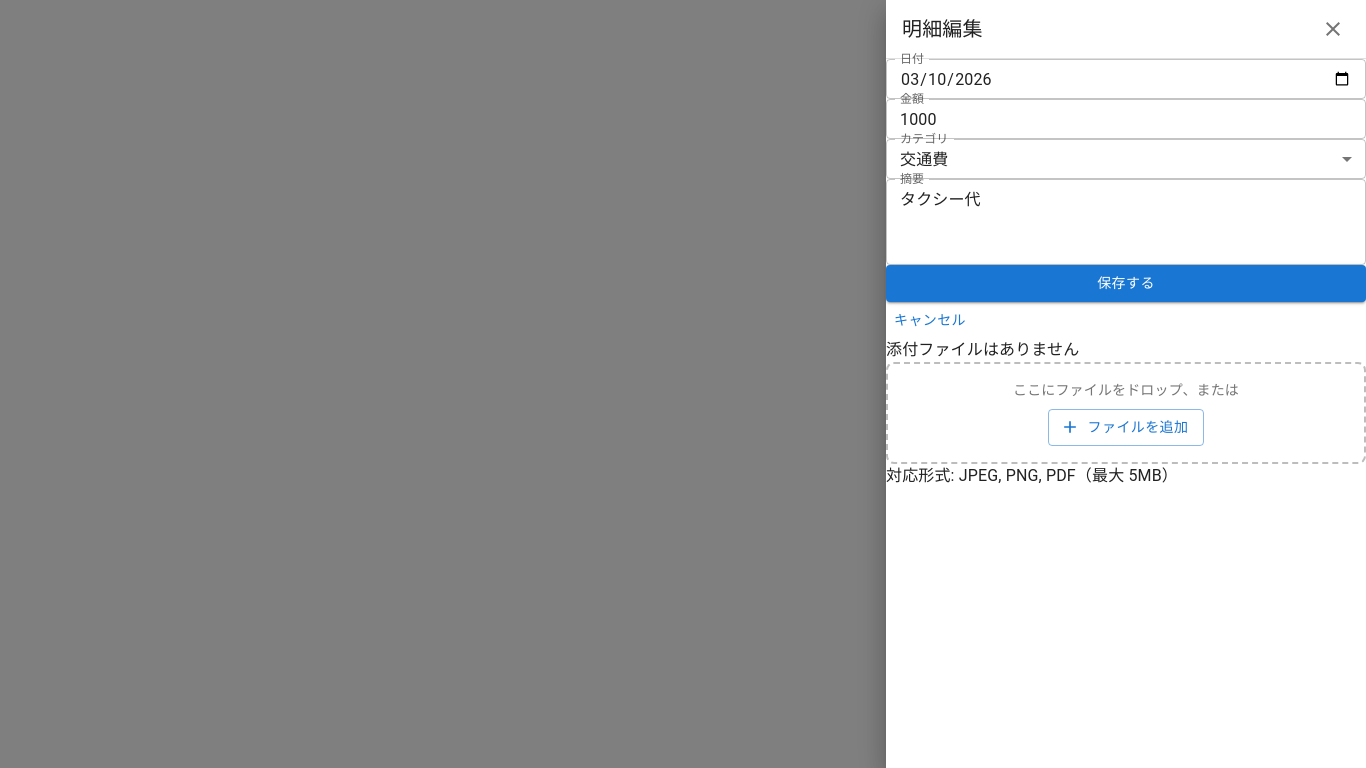
Test: ItemSlidePanel 破棄確認ダイアログ（ATT-FE-064〜071, issue #108） › ATT-FE-069: keeps_panel_open_on_dialog_cancel_button
The width and height of the screenshot is (1366, 768).
金額を変更して dirty にする。
Replace the text in the number field labelled "金額" with "7777" at (1126, 119), box [886,99,1365,139]
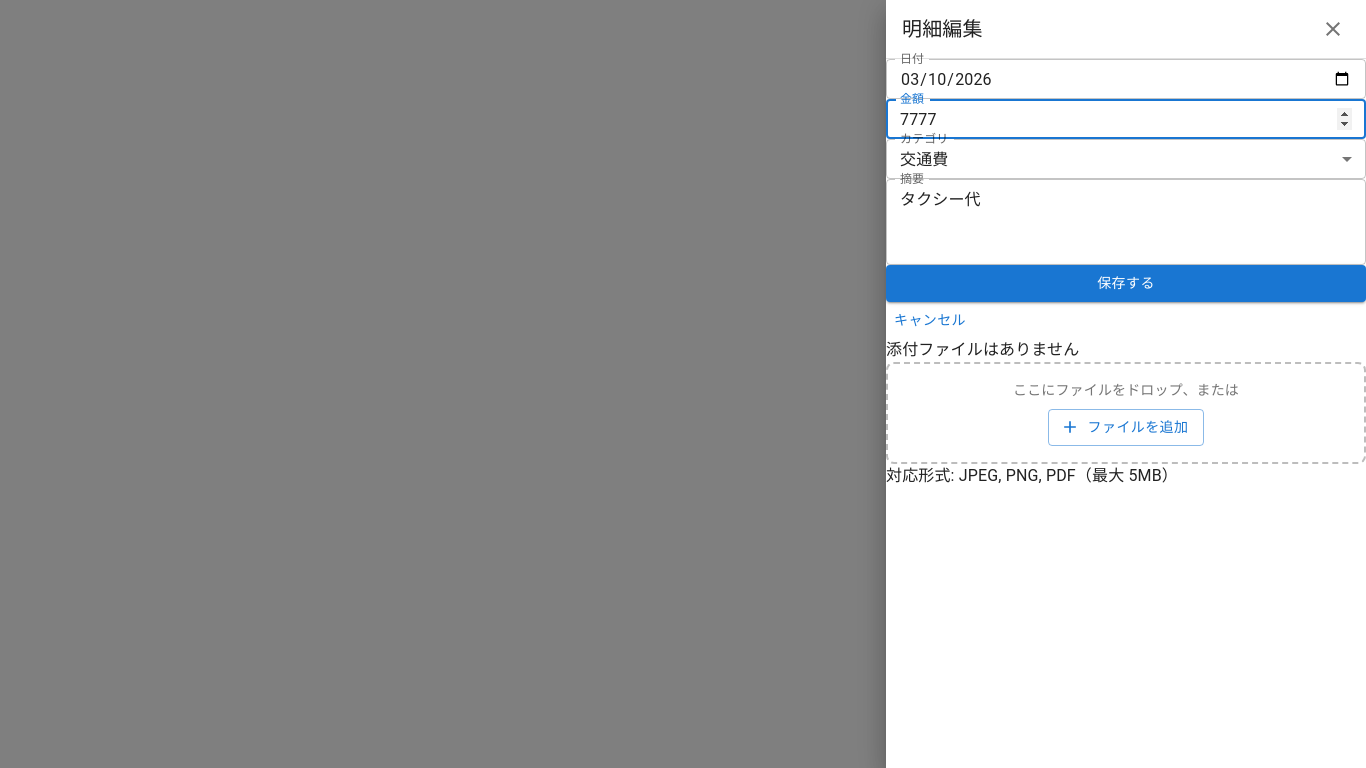
× ボタンで Dialog を表示する。
Click the button named "閉じる" at (1333, 29), box [1316,12,1350,46]
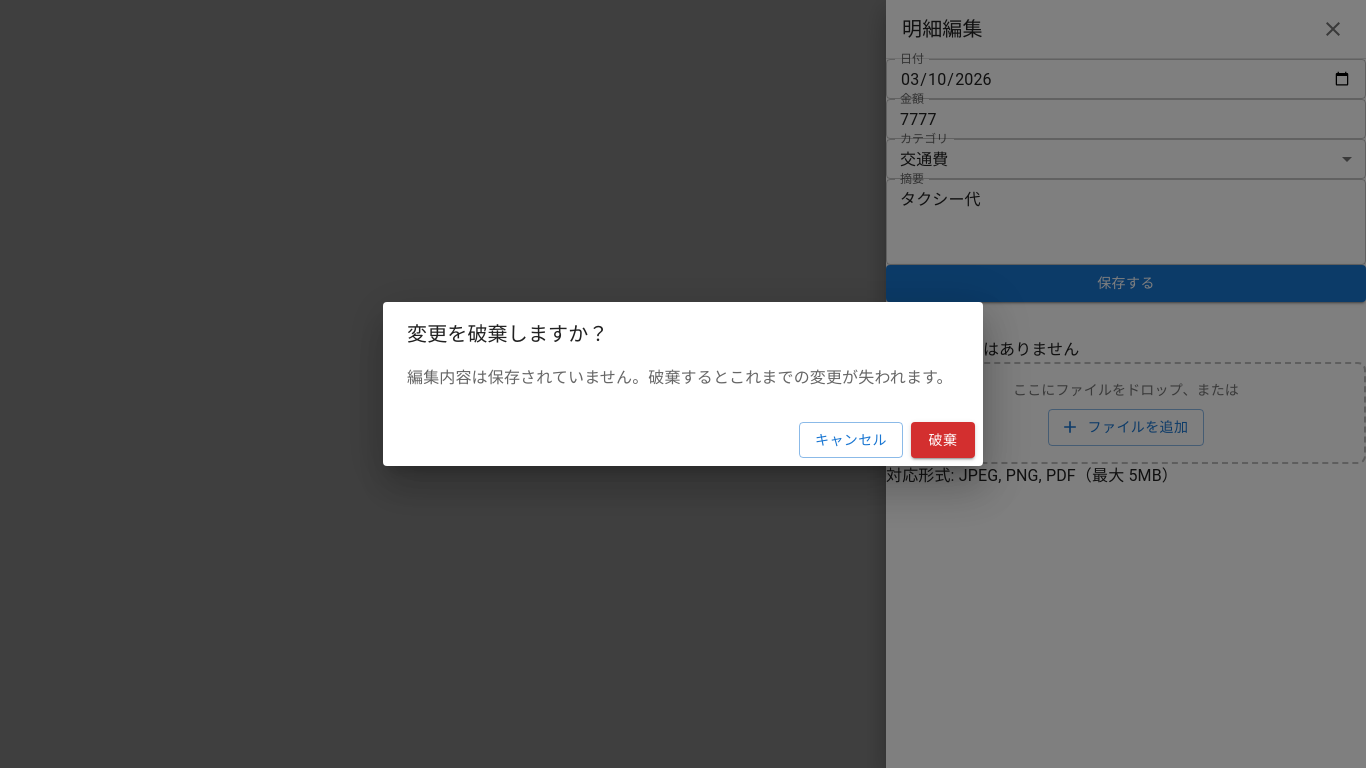
Click the button "キャンセル" at (851, 440), box [799,422,903,458]
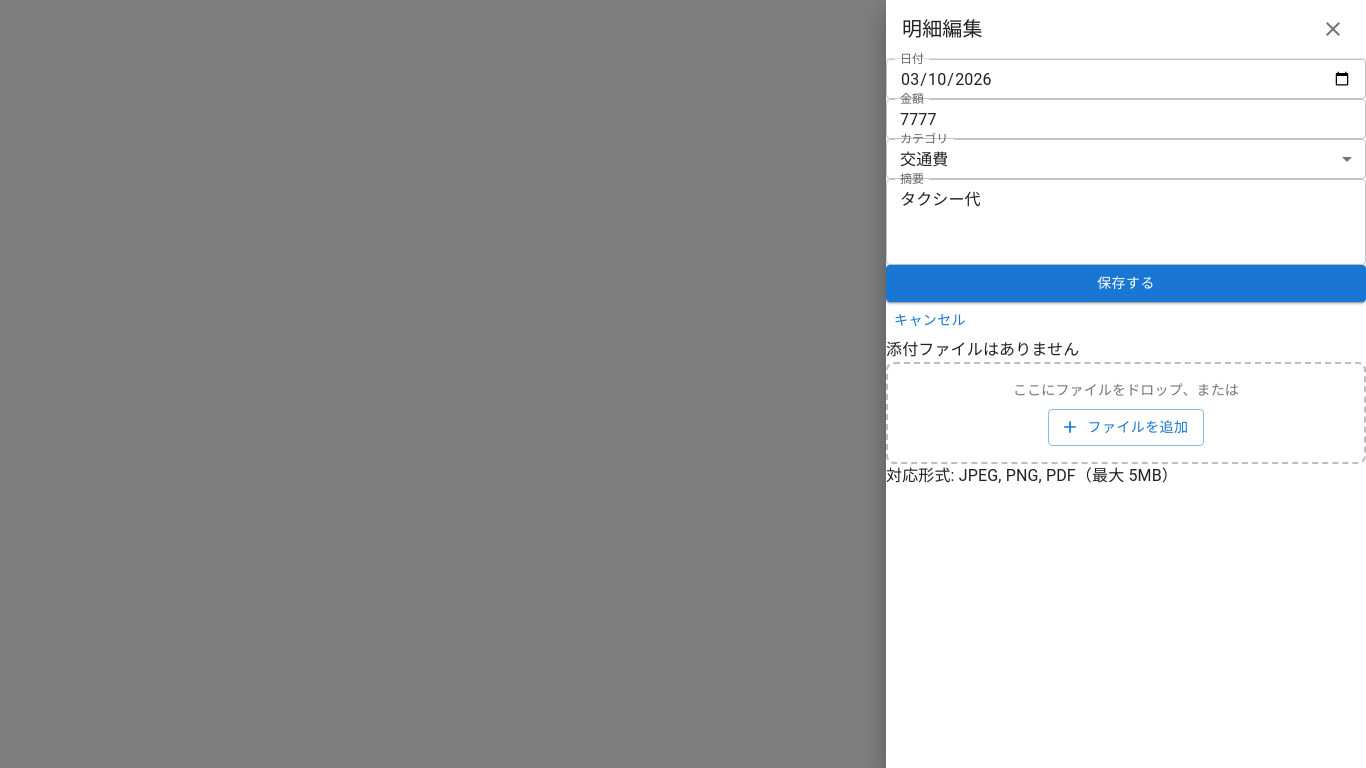
Expected: the heading "変更を破棄しますか？" is gone
